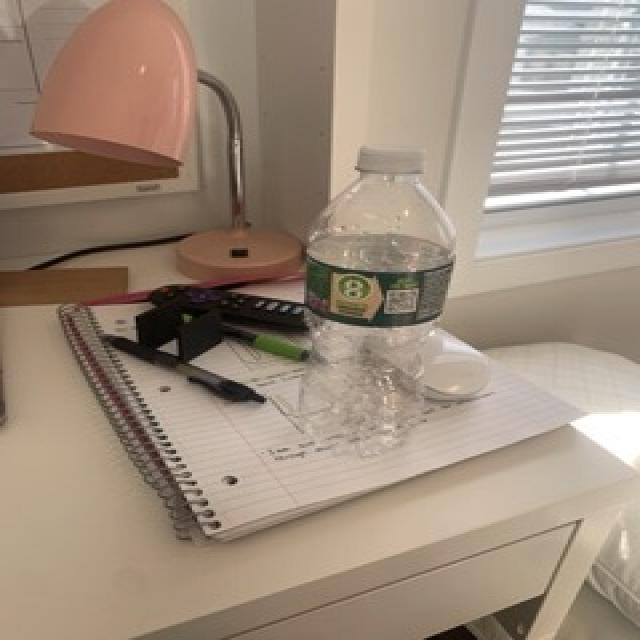water_bottle: (288, 140, 466, 458)
